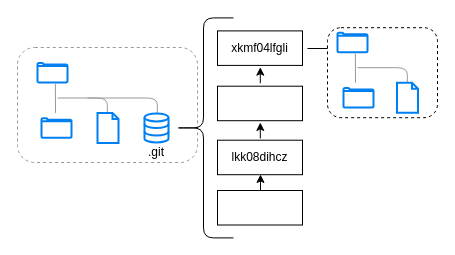
Image size: 455x255. Some labels were removed from this diagram. Here are the shapes that lost their labels. From the top down, the centre of each, then its label:
At [259,103]: "g9fhgm0as".
At [259,207]: "q2f21ujaw".
